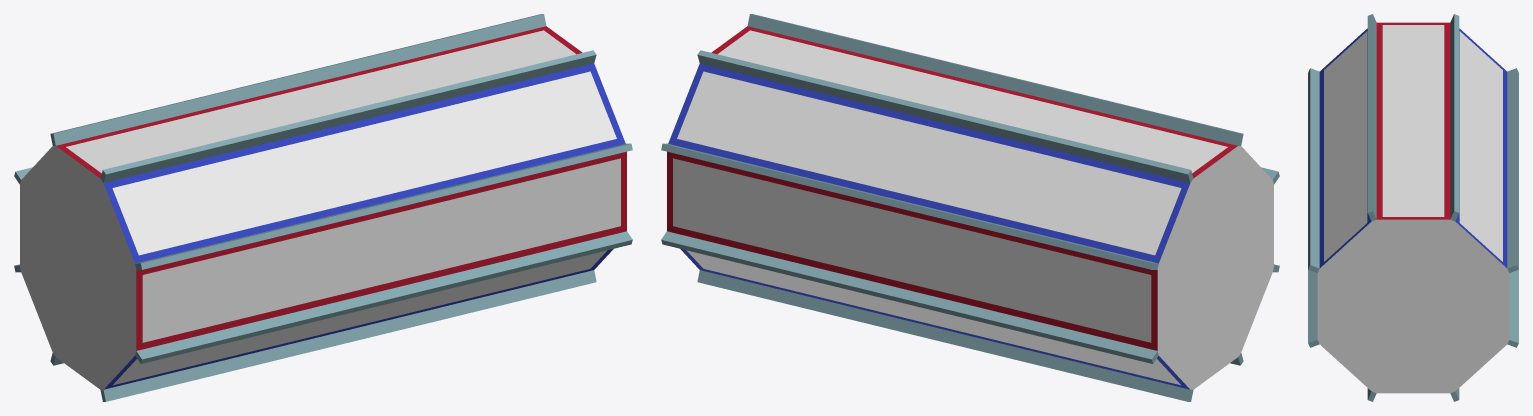
Rendered from TrialRoulette.fbx.
3 renders of one model, left to right at view 1: azimuth 30°, elevation 25°; view 2: azimuth 150°, elevation 25°; view 3: azimuth 270°, elevation 25°, orthographic. The views are drawn at different scales.
Parts seen in each view (by area): view 1: TrialRoulette; view 2: TrialRoulette; view 3: TrialRoulette.
Part boxes in pixels (x1,y1,x2,y2): TrialRoulette: (14, 14, 632, 401); TrialRoulette: (661, 14, 1279, 401); TrialRoulette: (1308, 14, 1518, 401).
Size of what is drawn, in the model's own units: 4.49 by 2.03 by 2.03.
